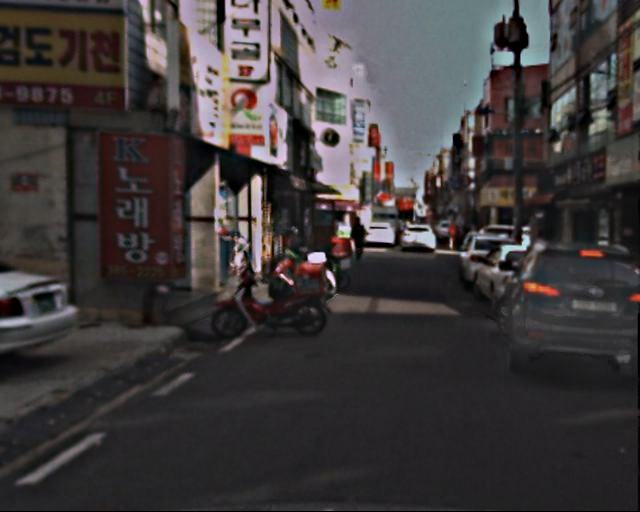person: (347, 214, 368, 265), (443, 222, 463, 254)
